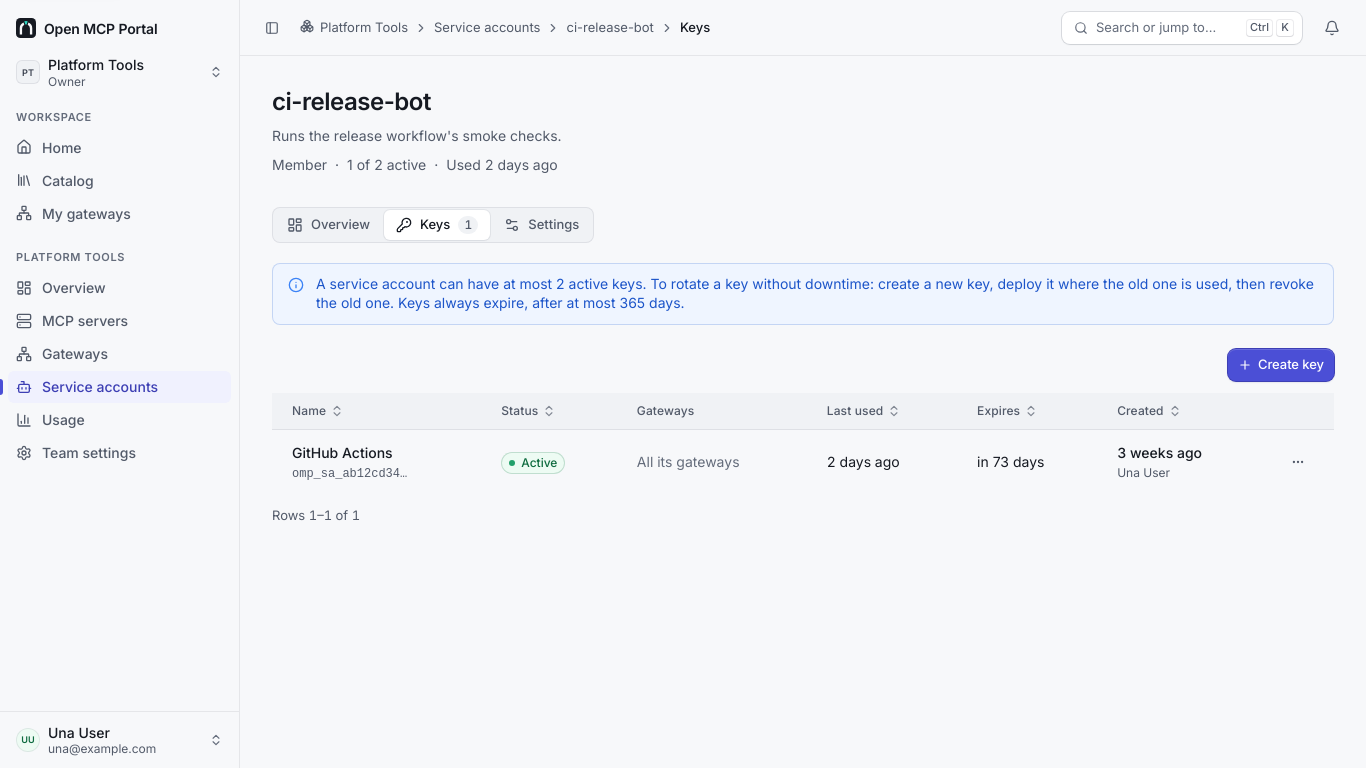
Test: Service account › Keys › shows the server's refusal of a third key
This screenshot has width=1366, height=768.
Click the button "Create key" at (1281, 365), box [1228, 349, 1334, 381]
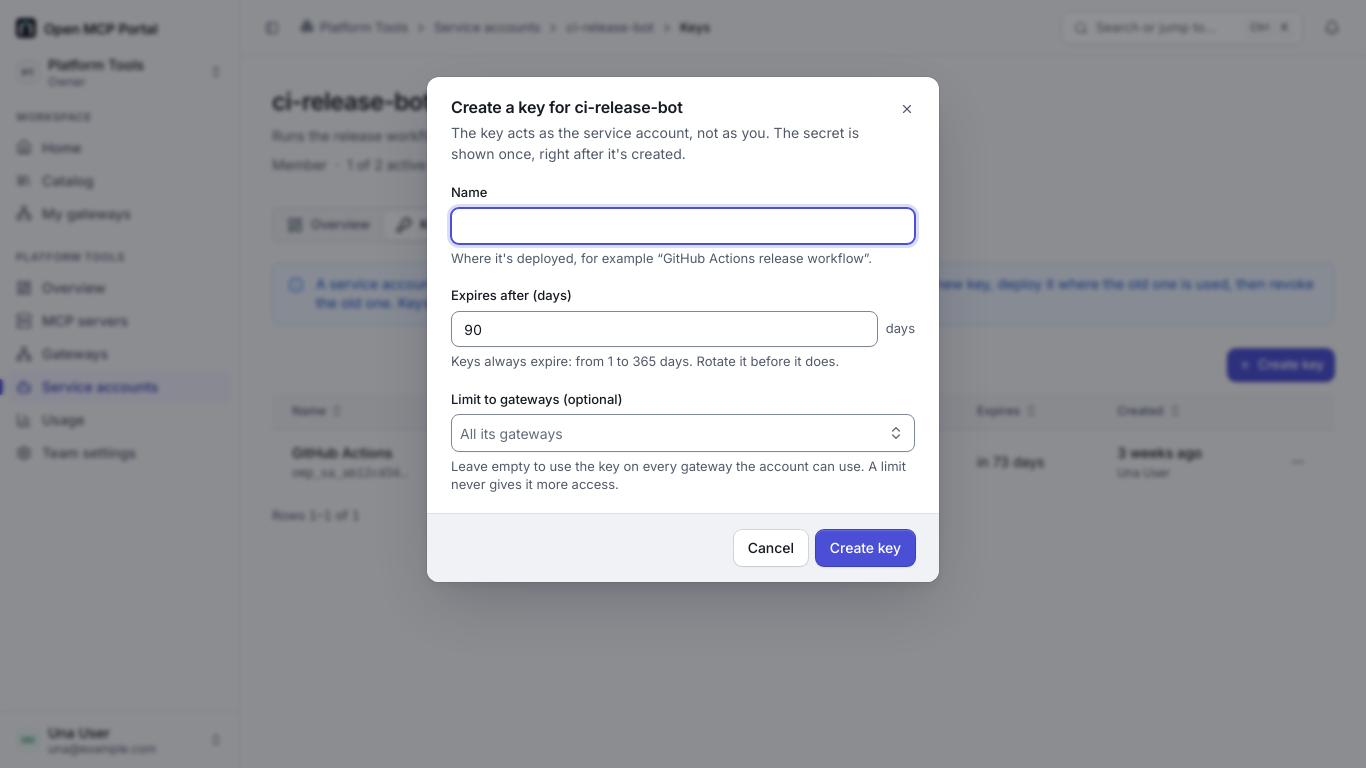
Type "Third" into the field labelled "Name" at (683, 226), box [451, 208, 915, 244]
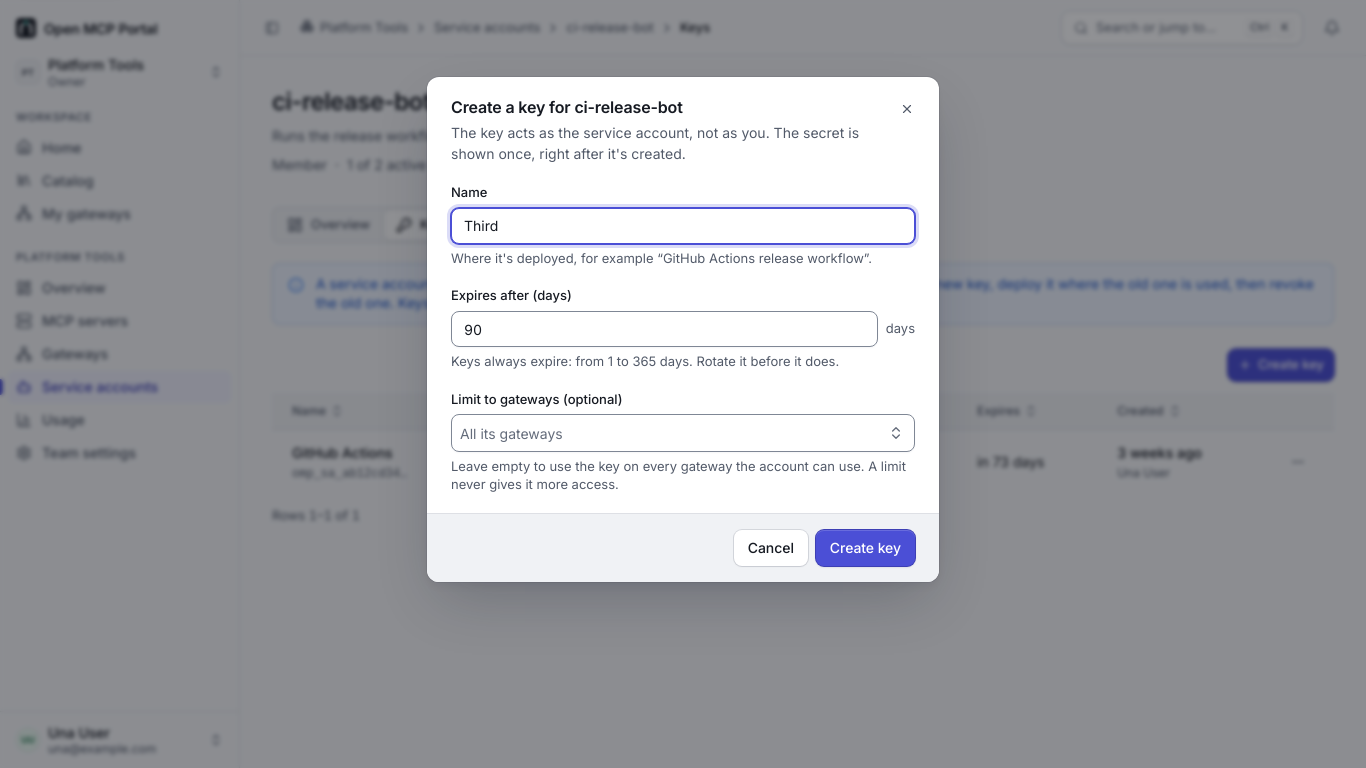
Click the button "Create key" at (865, 548), box [816, 530, 915, 566]
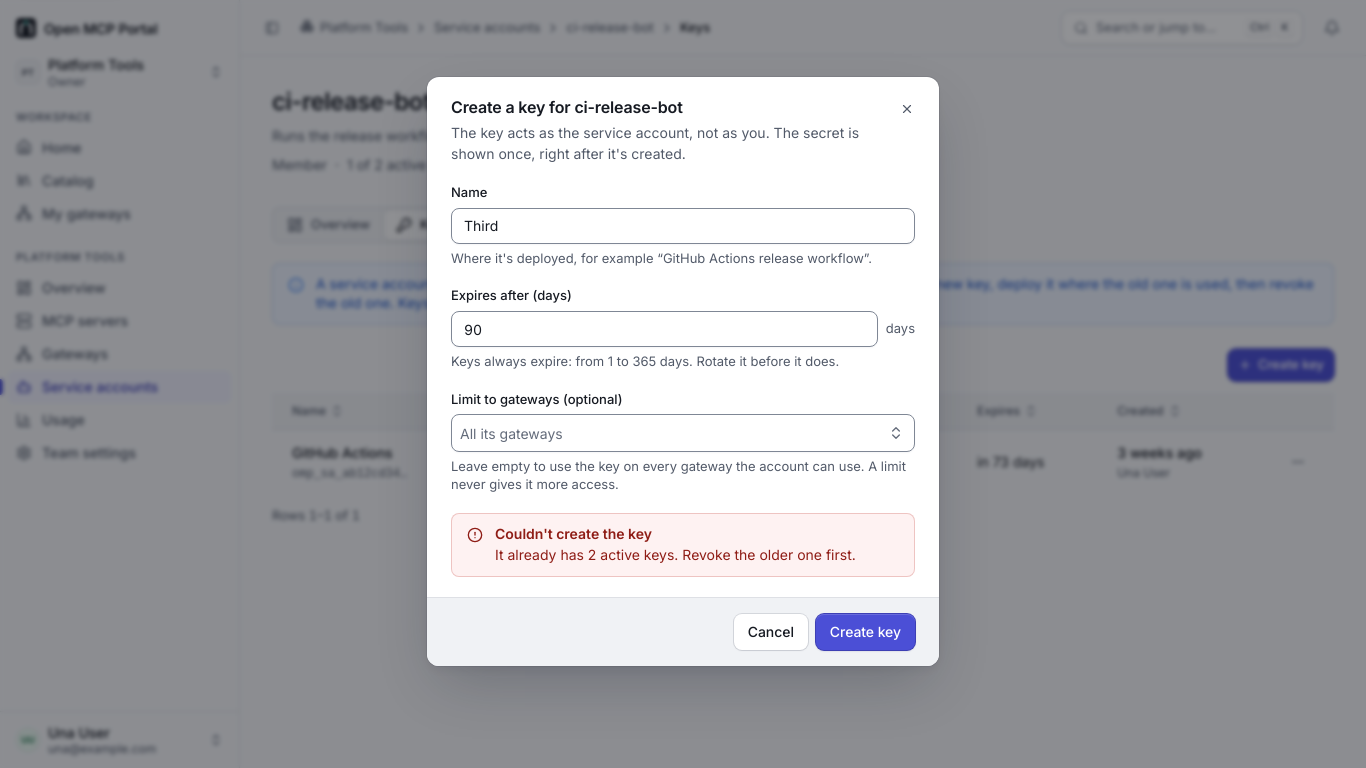
Check: the text "It already has 2 active keys. Revoke the older one first." is shown, box [495, 546, 899, 565]
